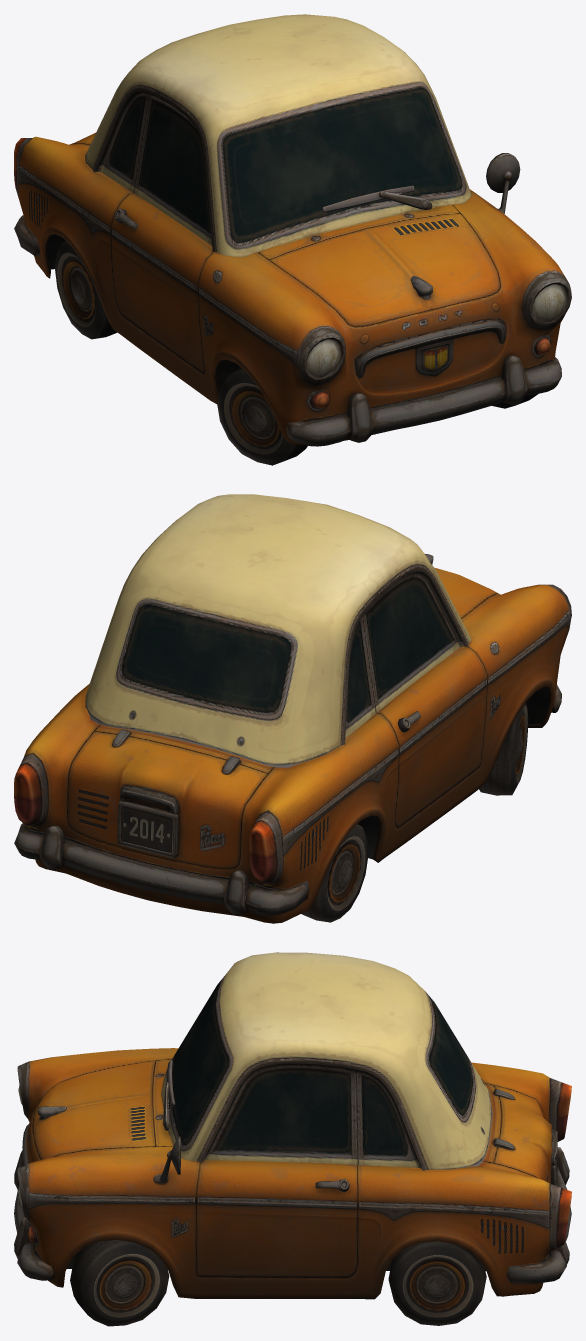
The model's file is car.obj.
3 views of the same model, one above another, from view 1: azimuth 30°, elevation 25°; view 2: azimuth 150°, elevation 25°; view 3: azimuth 270°, elevation 25° (orthographic). The views are drawn at different scales.
Parts seen in each view (by area): view 1: Object_2, Object_5; view 2: Object_2, Object_5; view 3: Object_2, Object_5.
Boxes of the visible parts, <box> form: Object_2: <box>14,14,571,465</box>; Object_5: <box>109,87,462,243</box>; Object_2: <box>14,494,571,923</box>; Object_5: <box>121,578,454,723</box>; Object_2: <box>14,952,571,1326</box>; Object_5: <box>172,980,473,1156</box>.
Bounding box in the file's own units: 1.44 × 1.34 × 2.37.
3 materials, 3 textured.
